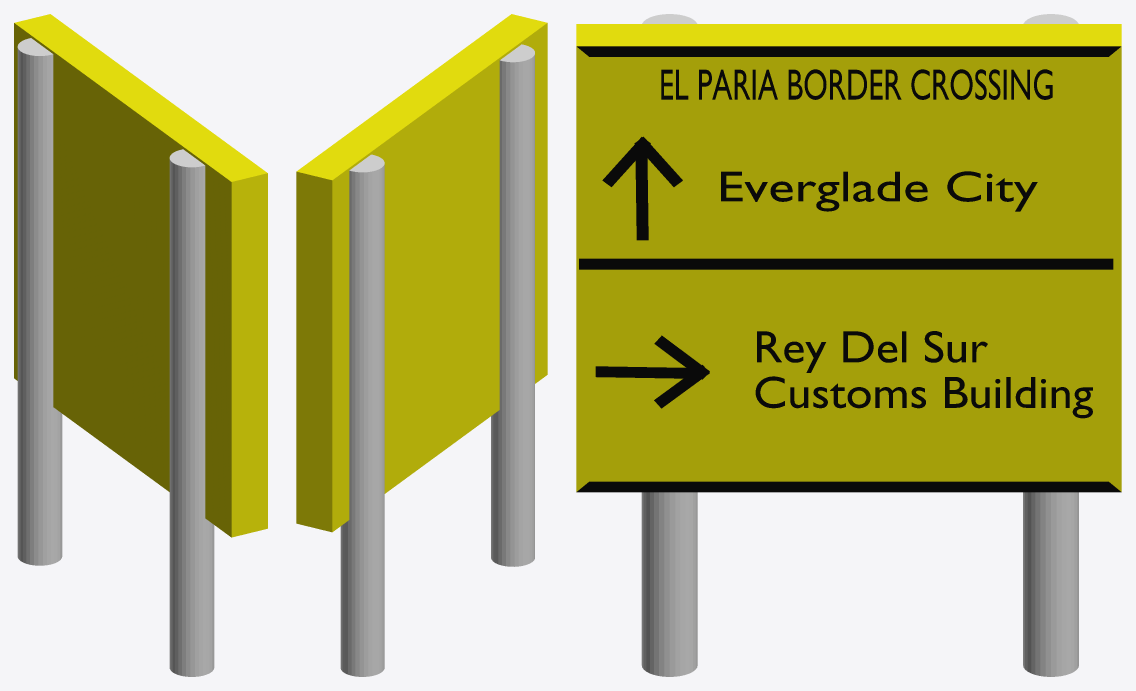
The model's file is EPBC_sign_2.fbx.
3 renders of one model, left to right at view 1: azimuth 30°, elevation 25°; view 2: azimuth 150°, elevation 25°; view 3: azimuth 270°, elevation 25°, orthographic. The views are drawn at different scales.
Visible parts, largest first — view 1: Cube.001, Cylinder, Cylinder.001; view 2: Cube.001, Cylinder.001, Cylinder; view 3: Cube.001, Cylinder, Cylinder.001, Plane.012, Text.003, Text.004, Text.001, Plane.004, Plane.011.
Part boxes in pixels (bbox=[...]): Cube.001: bbox=[14, 14, 267, 537]; Cylinder: bbox=[169, 149, 214, 676]; Cylinder.001: bbox=[17, 38, 62, 565]; Cube.001: bbox=[296, 14, 547, 532]; Cylinder.001: bbox=[340, 154, 384, 676]; Cylinder: bbox=[491, 44, 534, 566]; Cube.001: bbox=[576, 24, 1121, 492]; Cylinder: bbox=[641, 14, 697, 676]; Cylinder.001: bbox=[1023, 14, 1078, 676]; Plane.012: bbox=[579, 258, 1113, 269]; Text.003: bbox=[755, 331, 1092, 418]; Text.004: bbox=[661, 69, 1052, 99]; Text.001: bbox=[721, 171, 1037, 211]; Plane.004: bbox=[635, 152, 648, 240]; Plane.011: bbox=[595, 366, 692, 378].
Size of the model in its own units: 6.12 by 50.59 by 38.93.
